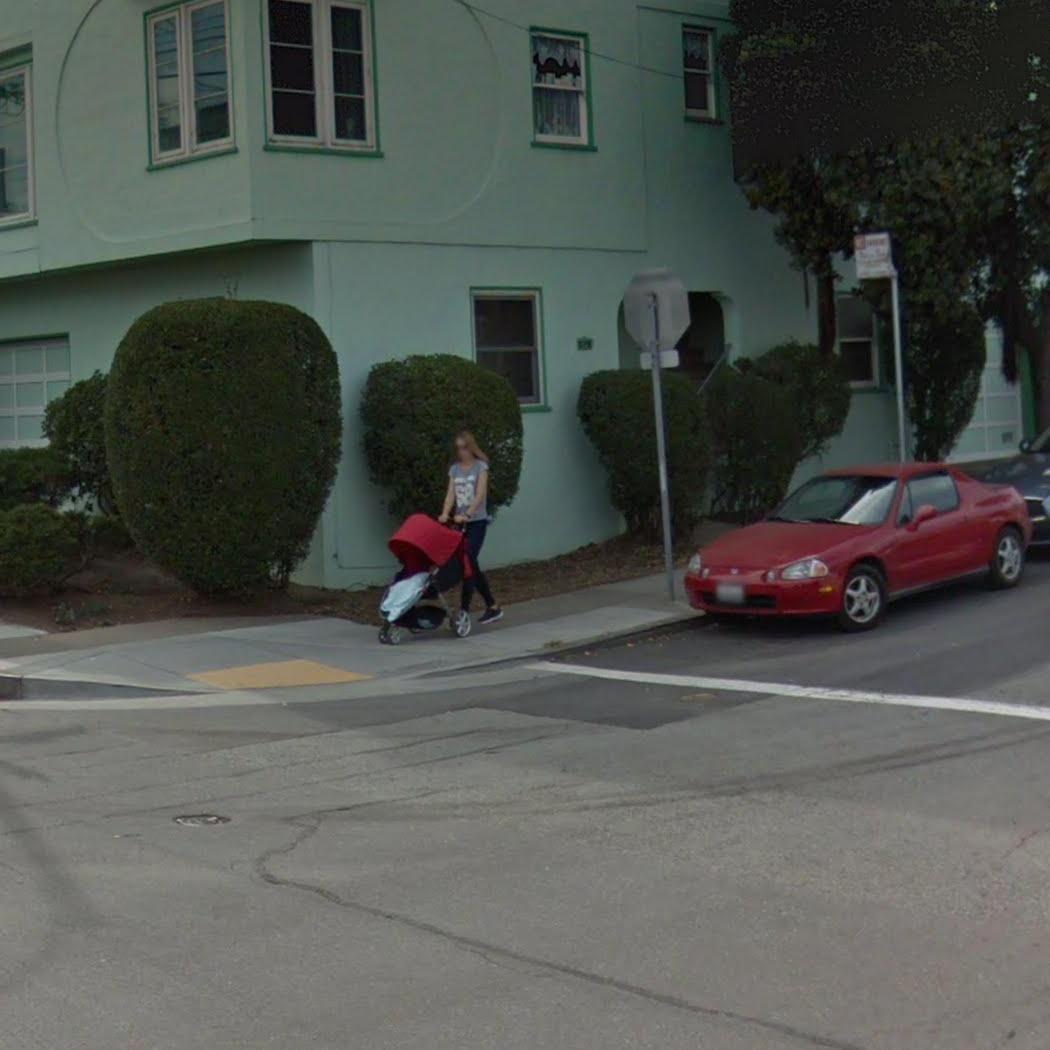No Parking: (852, 231, 896, 282)
